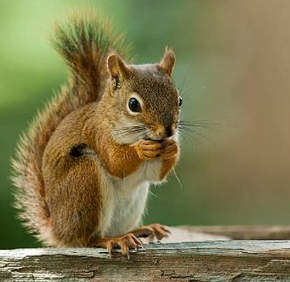Ardilla: (88, 41, 197, 177)
